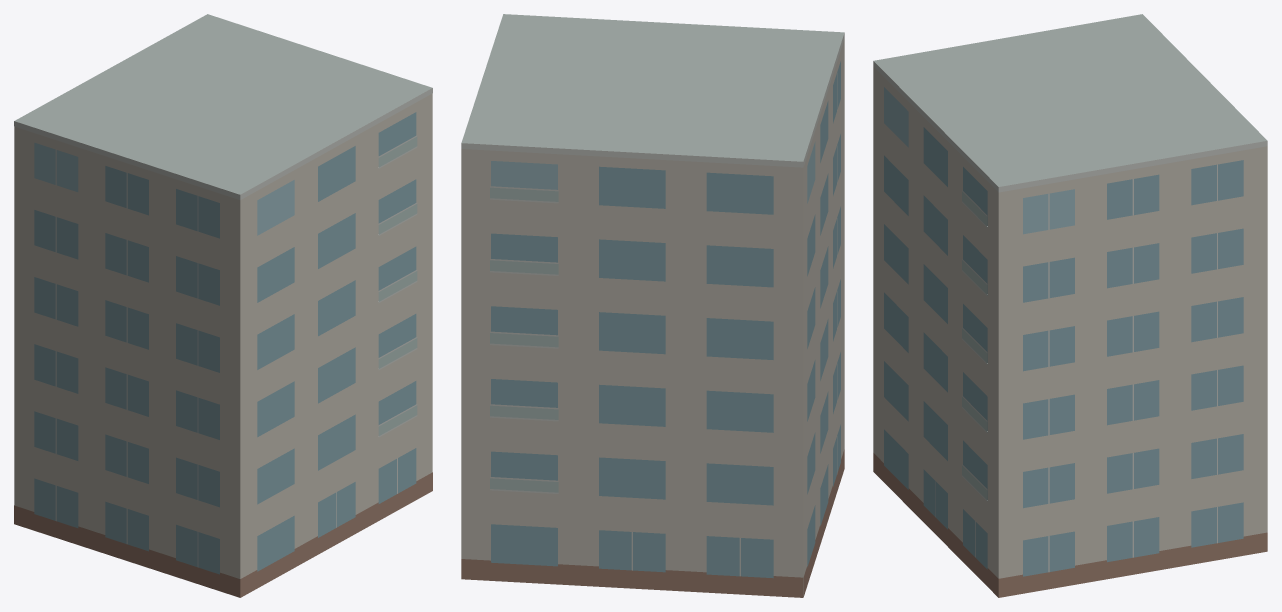
Rendered from survey-upis-32719924.glb.
The picture shows the model from 3 angles, left to right: view 1: azimuth 30°, elevation 25°; view 2: azimuth 150°, elevation 25°; view 3: azimuth 270°, elevation 25°; orthographic projection. The views are drawn at different scales.
Parts seen in each view (by area): view 1: survey-upis-32719924.tmp; view 2: survey-upis-32719924.tmp; view 3: survey-upis-32719924.tmp.
Boxes of the visible parts, x1,y1,x2,y2 form: survey-upis-32719924.tmp: (14, 14, 432, 597); survey-upis-32719924.tmp: (461, 14, 844, 597); survey-upis-32719924.tmp: (873, 14, 1267, 597).
Bounding box in the file's own units: 16.54 × 18.3 × 15.93.
